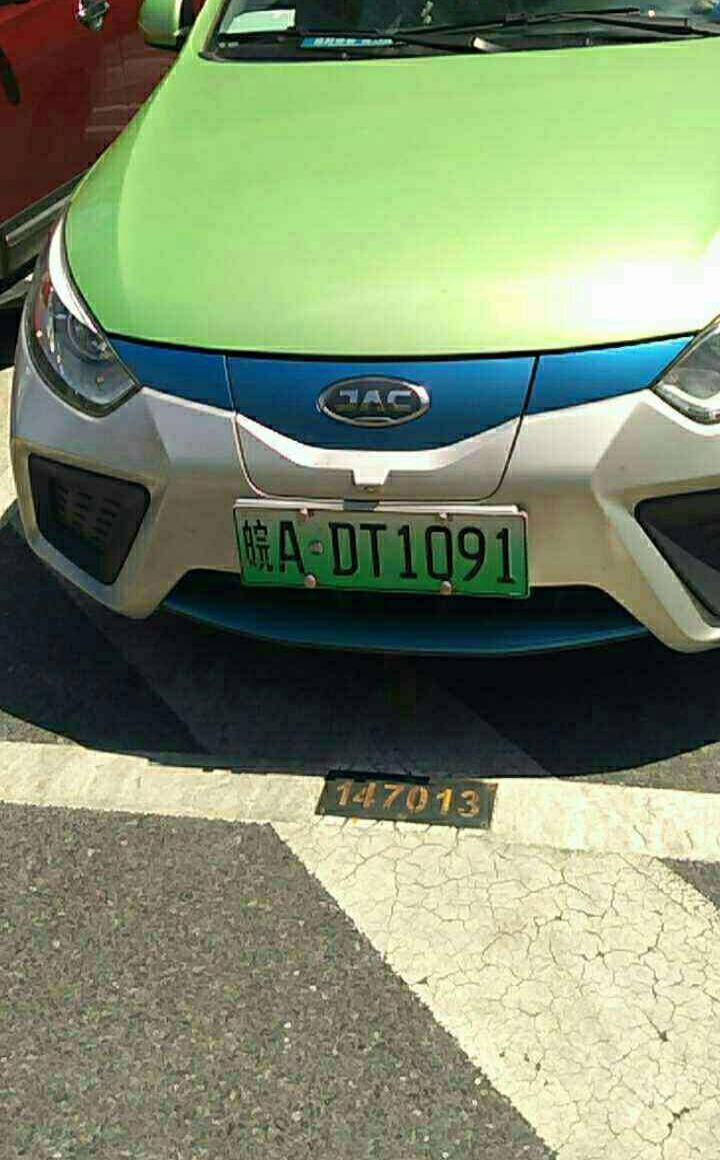car_id: (228, 508, 528, 594)
